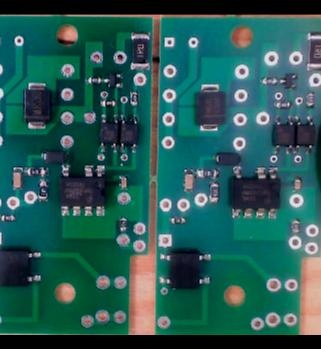chip-capacitor: (182, 167, 194, 194), (11, 165, 23, 191), (292, 176, 303, 193), (118, 174, 128, 191)
chip-resistor: (128, 29, 151, 71), (305, 30, 321, 71), (208, 180, 221, 205), (194, 167, 220, 179), (23, 165, 49, 176), (38, 177, 49, 203), (304, 90, 314, 109), (128, 90, 139, 107), (272, 99, 292, 108), (169, 215, 187, 225), (99, 98, 117, 108), (118, 214, 128, 232), (291, 217, 301, 234), (85, 75, 102, 85), (260, 77, 278, 86), (0, 213, 16, 222)
diode: (194, 83, 227, 132), (22, 81, 53, 131), (39, 149, 71, 164), (213, 151, 242, 167)
ic: (229, 165, 281, 220), (58, 164, 107, 219), (157, 248, 213, 290), (0, 247, 42, 287), (293, 115, 316, 155), (271, 115, 294, 155), (119, 113, 139, 153), (98, 114, 118, 153)
transistor: (102, 72, 123, 89), (278, 73, 298, 90)
